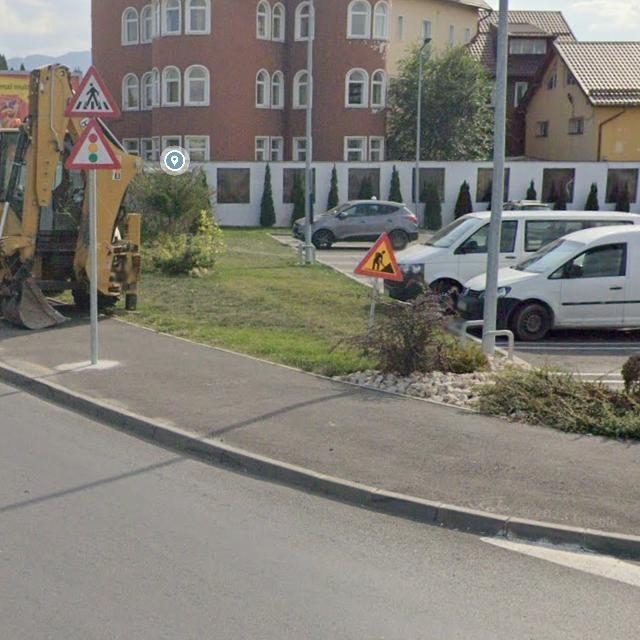warn_crosswalk: (63, 65, 122, 118)
